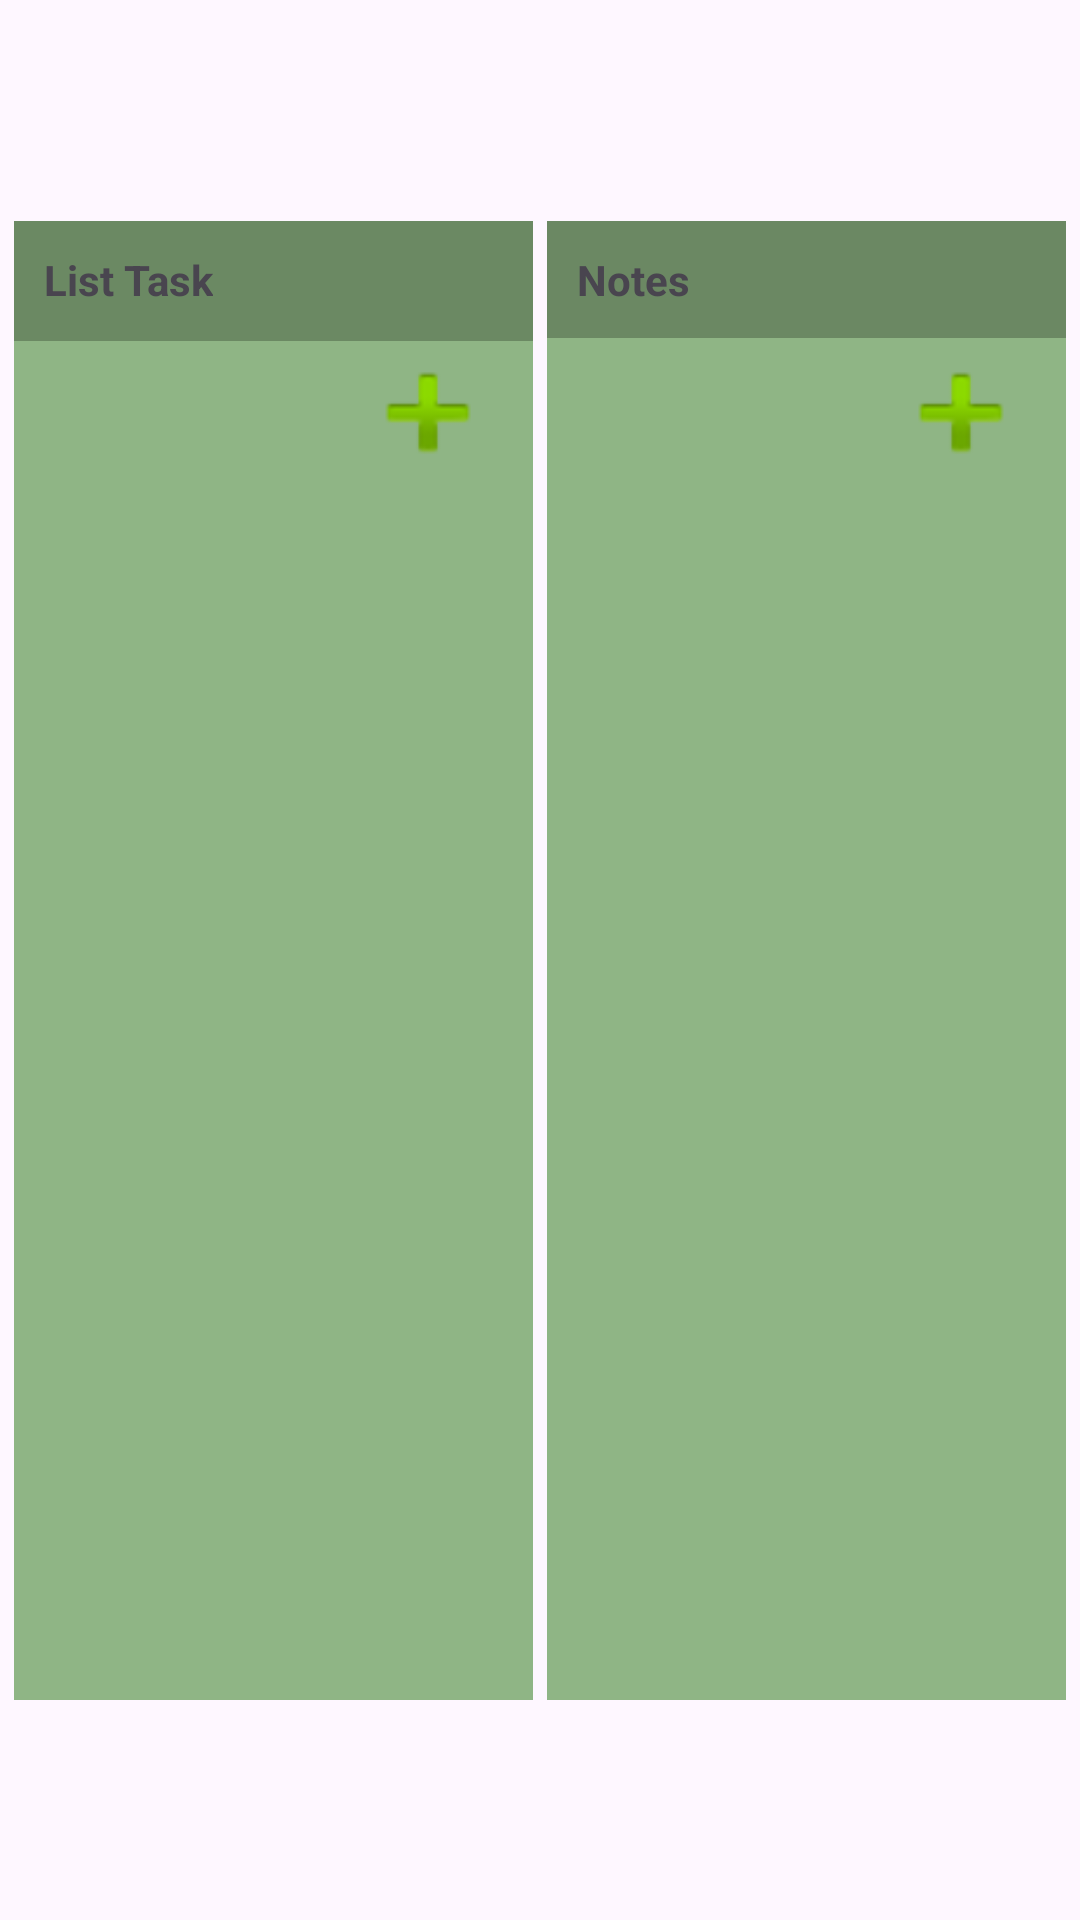

Screen size 1080 × 1920. Icon name, then its box in pixels as (x1, y1, x2, y2):
Add Task: (386, 373, 470, 453), (919, 373, 1003, 453)
